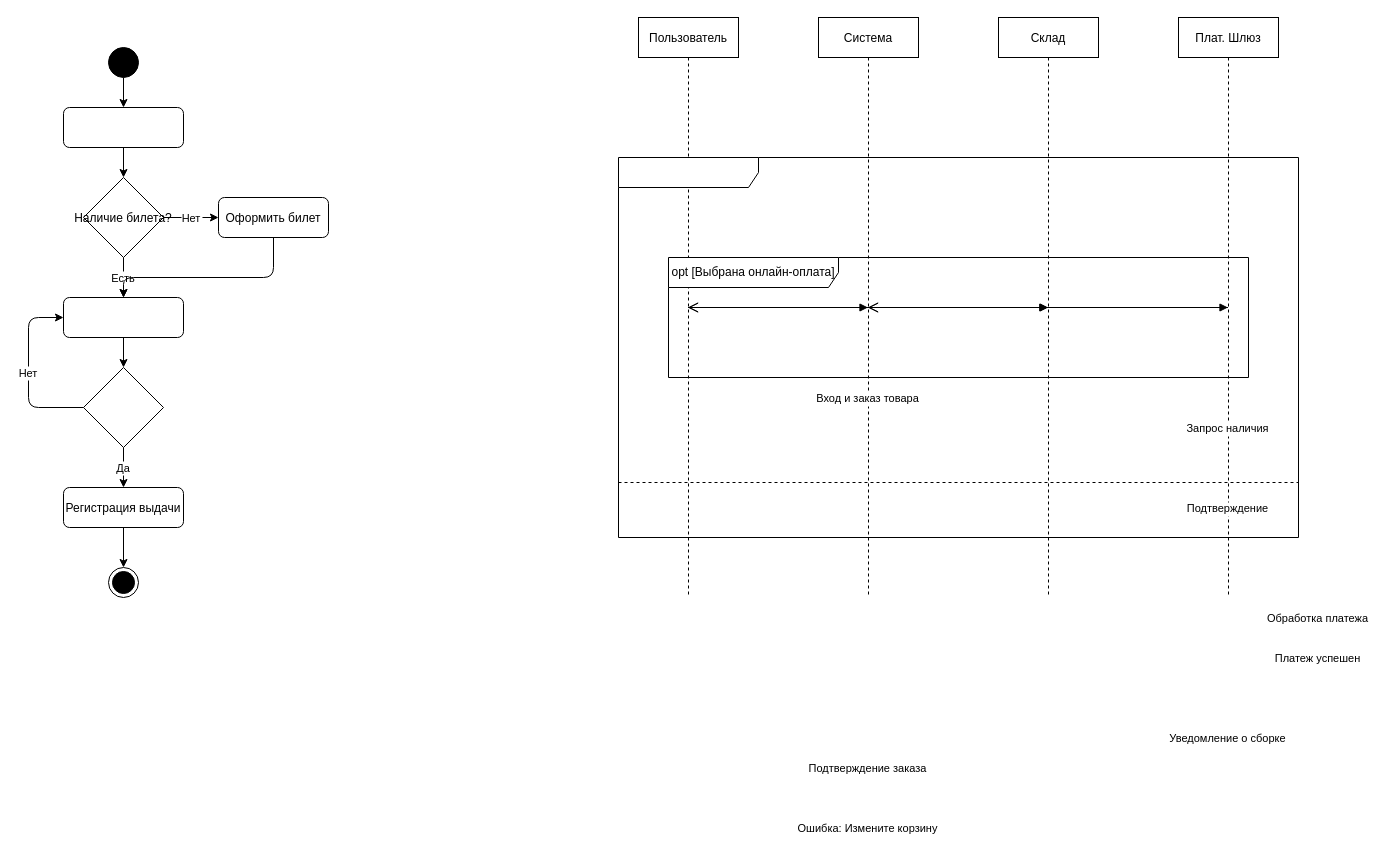
Image size: 1387x852. Some labels were removed from this diagram. The box of each missing label's shape, as (x1, y1, x2, y2) in pixels:
alt [Товары доступны]: (618, 156, 1298, 538)
Выбор книги: (62, 296, 184, 338)
Доступна?: (82, 366, 164, 448)
Приход читателя: (62, 106, 184, 148)
